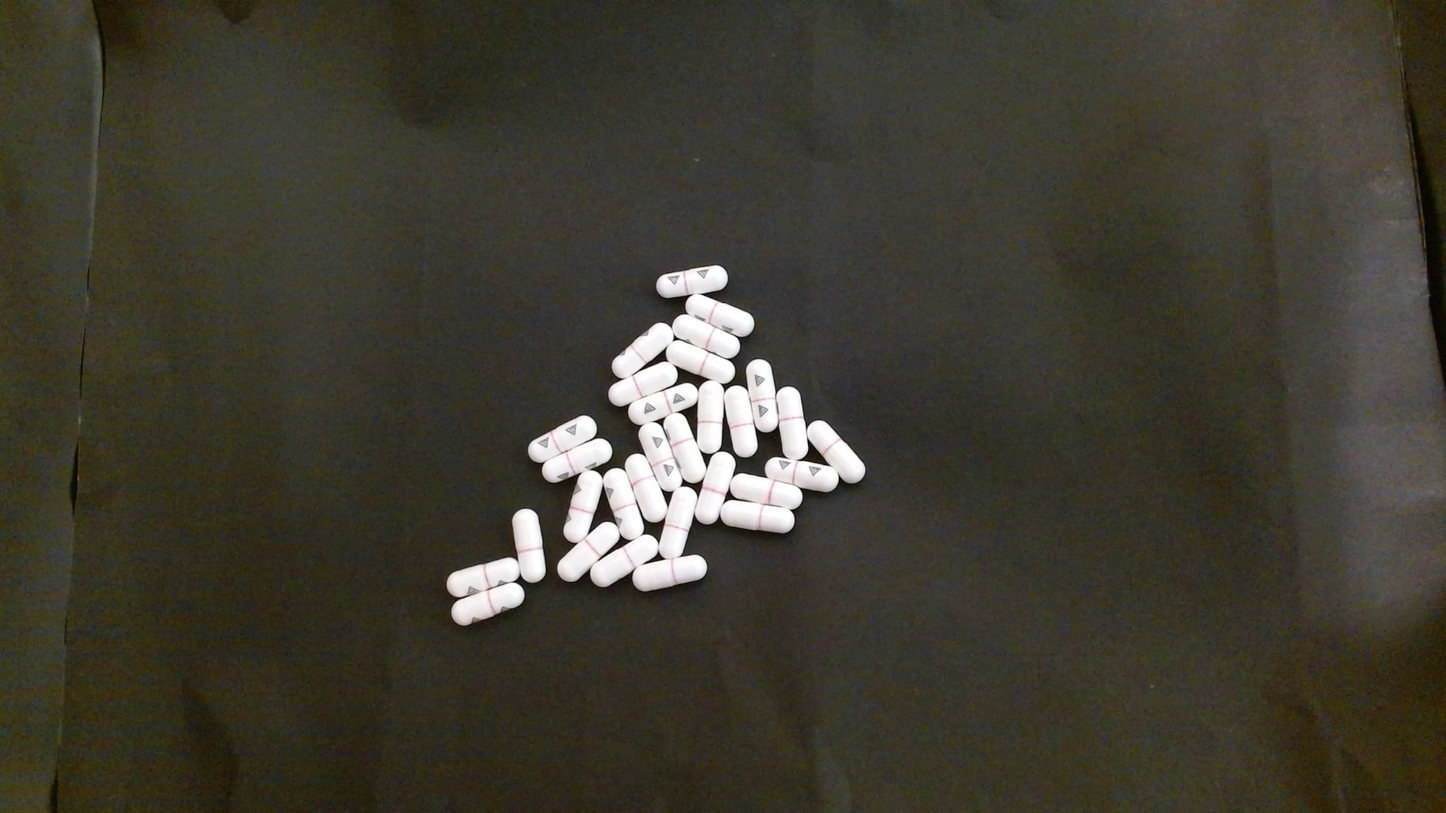Capsule: (806, 418, 866, 483), (557, 519, 620, 580), (589, 533, 657, 587), (527, 414, 600, 463), (612, 321, 674, 377), (637, 422, 685, 493), (537, 439, 610, 484), (602, 467, 645, 541), (695, 449, 736, 526), (666, 339, 736, 384), (609, 363, 680, 407), (563, 469, 605, 542), (672, 313, 740, 358), (663, 413, 706, 484), (686, 294, 755, 338), (450, 583, 522, 625), (447, 557, 519, 598), (658, 485, 697, 560), (625, 453, 667, 522), (763, 455, 838, 492), (631, 556, 706, 592), (719, 499, 795, 534), (730, 472, 801, 509), (512, 508, 547, 583), (628, 385, 692, 425), (746, 357, 779, 434), (657, 265, 729, 299), (776, 385, 808, 461), (724, 382, 755, 456), (697, 380, 725, 455)
